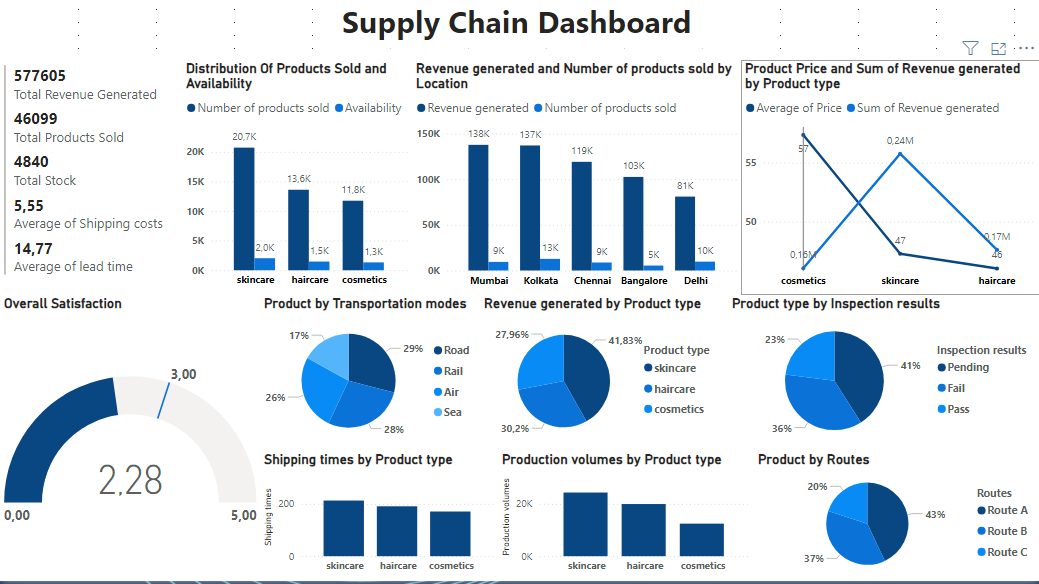

This screenshot's page, from the dashboard's own definition file:
{"tool":"powerbi","page":{"name":"Page 1","canvas":[1280,720],"ordinal":0},"visuals":[{"type":"textbox","box":[416.6,0,464,64.6],"z":0},{"type":"multiRowCard","fields":{"Values":["supply_chain_data (1).Total Revenue Generated","supply_chain_data (1).Total Products Sold","supply_chain_data (1).Total Stock","Avg(supply_chain_data (1).Shipping costs)","Avg(supply_chain_data (1).Manufacturing lead time)"]},"box":[0,80.4,224.1,287.3],"z":1000},{"type":"clusteredColumnChart","title":"Distribution Of Products Sold and Availability","fields":{"Y":["Sum(supply_chain_data (1).Number of products sold)","Sum(supply_chain_data (1).Availability)"],"Category":["supply_chain_data (1).Product type"]},"box":[223.5,79.3,283,288.5],"z":2000},{"type":"clusteredColumnChart","fields":{"Y":["Sum(supply_chain_data (1).Revenue generated)","Sum(supply_chain_data (1).Number of products sold)"],"Category":["supply_chain_data (1).Location"]},"box":[507.1,79,405.1,288.8],"z":3000},{"type":"lineChart","title":"Product Price and Sum of Revenue generated by Product type","fields":{"Category":["supply_chain_data (1).Product type"],"Y":["Avg(supply_chain_data (1).Price)"],"Y2":["Sum(supply_chain_data (1).Revenue generated)"]},"box":[912.2,79,367.8,288.8],"z":4000},{"type":"pieChart","fields":{"Category":["supply_chain_data (1).Transportation modes"],"Y":["CountNonNull(supply_chain_data (1).SKU)"]},"box":[320,368,272,192],"z":5000},{"type":"pieChart","fields":{"Category":["supply_chain_data (1).Product type"],"Y":["Sum(supply_chain_data (1).Revenue generated)"]},"box":[591.3,367.8,299.3,192.9],"z":6000},{"type":"pieChart","fields":{"Category":["supply_chain_data (1).Inspection results"],"Y":["CountNonNull(supply_chain_data (1).Product type)"]},"box":[896,368,384,192],"z":7000},{"type":"pieChart","fields":{"Category":["supply_chain_data (1).Routes"],"Y":["CountNonNull(supply_chain_data (1).SKU)"]},"box":[928,560,352,160],"z":8000},{"type":"columnChart","fields":{"Y":["Sum(supply_chain_data (1).Shipping times)"],"Category":["supply_chain_data (1).Product type"]},"box":[320.4,560.3,293.1,159.5],"z":9000},{"type":"columnChart","fields":{"Category":["supply_chain_data (1).Product type"],"Y":["Sum(supply_chain_data (1).Production volumes)"]},"box":[613.4,560.3,314.6,159.5],"z":10000},{"type":"gauge","title":"Overall Satisfaction","fields":{"Y":["Avg(supply_chain_data (1).Defect rates)"],"MinValue":["supply_chain_data (1).Minimum Value"],"MaxValue":["supply_chain_data (1).Maximum Value"],"TargetValue":["supply_chain_data (1).Target Value"]},"box":[0,367.8,320.9,351.5],"z":11000}]}

Visuals, with their boxes in screenshot pixels (x1, y1, x2, y2), scaled from the page's 1280x720 canvas onto the 1039x584 screenshot:
textbox: (338, 0, 715, 52)
multiRowCard - supply_chain_data (1).Total Revenue Generated x supply_chain_data (1).Total Products Sold: (0, 65, 182, 298)
"Distribution Of Products Sold and Availability" clusteredColumnChart: (181, 64, 411, 298)
clusteredColumnChart - Sum(supply_chain_data (1).Revenue generated) x Sum(supply_chain_data (1).Number of products sold): (412, 64, 740, 298)
"Product Price and Sum of Revenue generated by Product type" lineChart: (740, 64, 1038, 298)
pieChart - supply_chain_data (1).Transportation modes x CountNonNull(supply_chain_data (1).SKU): (260, 298, 481, 454)
pieChart - supply_chain_data (1).Product type x Sum(supply_chain_data (1).Revenue generated): (480, 298, 723, 455)
pieChart - supply_chain_data (1).Inspection results x CountNonNull(supply_chain_data (1).Product type): (727, 298, 1038, 454)
pieChart - supply_chain_data (1).Routes x CountNonNull(supply_chain_data (1).SKU): (753, 454, 1038, 583)
columnChart - Sum(supply_chain_data (1).Shipping times) x supply_chain_data (1).Product type: (260, 454, 498, 583)
columnChart - supply_chain_data (1).Product type x Sum(supply_chain_data (1).Production volumes): (498, 454, 753, 583)
"Overall Satisfaction" gauge: (0, 298, 260, 583)
